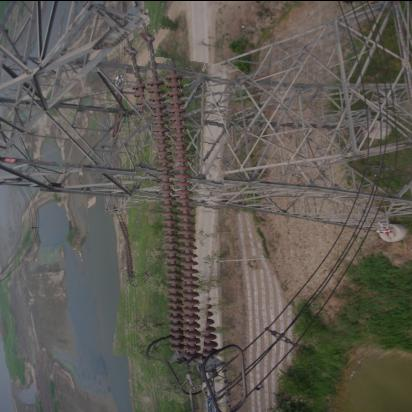insulator: (122, 58, 230, 364)
